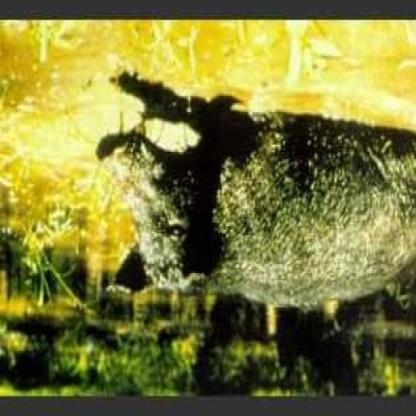boar: (82, 84, 415, 350)
